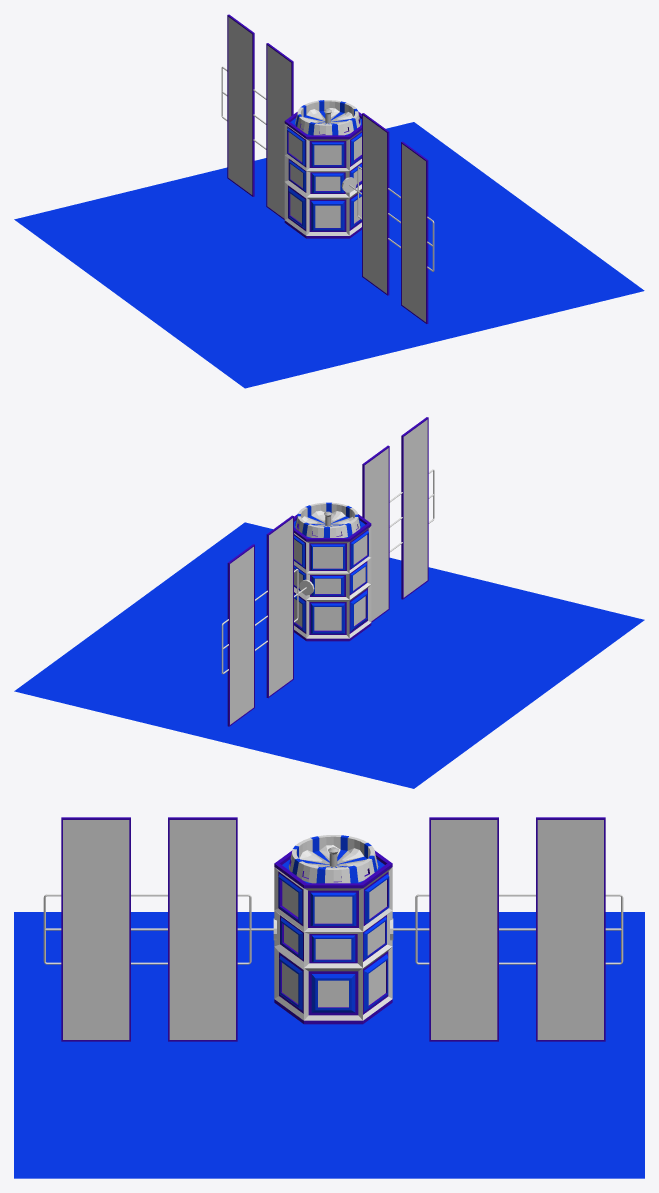
The model's file is satellite_1_1_blue.fbx.
3 views of the same model, one above another, from view 1: azimuth 30°, elevation 25°; view 2: azimuth 150°, elevation 25°; view 3: azimuth 270°, elevation 25° (orthographic). The views are drawn at different scales.
Parts seen in each view (by area): view 1: Plane, pCube7, Cylinder.020, Cylinder.021; view 2: Plane, pCube7, Cylinder.020, Cylinder.021; view 3: Plane, pCube7, Cylinder.020, Cylinder.021.
Part boxes in pixels (box(x1,y1,x2,y2)): Plane: box(14, 122, 644, 388); pCube7: box(221, 14, 434, 323); Cylinder.020: box(284, 111, 361, 238); Cylinder.021: box(295, 100, 360, 135); Plane: box(14, 522, 644, 788); pCube7: box(221, 417, 434, 726); Cylinder.020: box(294, 514, 371, 641); Cylinder.021: box(295, 502, 360, 537); Plane: box(14, 912, 644, 1178); pCube7: box(43, 817, 623, 1041); Cylinder.020: box(274, 850, 392, 1024); Cylinder.021: box(288, 835, 378, 883).
Bounding box in the file's own units: 1000 × 398 × 1000.
